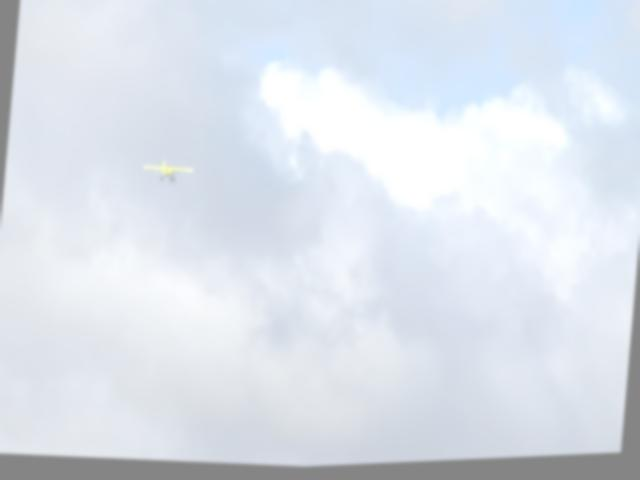plane: (141, 158, 194, 188)
